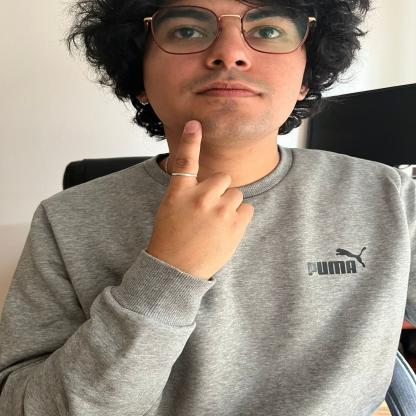T: (143, 117, 258, 279)
